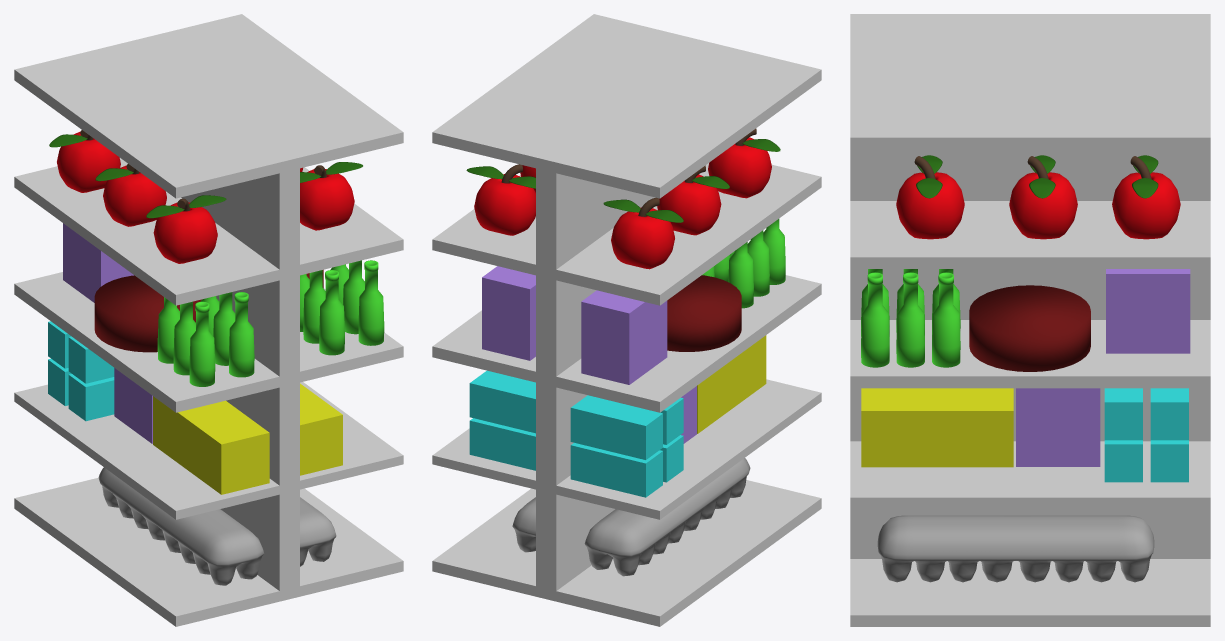
File: DoubleShelf.fbx
3 renders of one model, left to right at view 1: azimuth 30°, elevation 25°; view 2: azimuth 150°, elevation 25°; view 3: azimuth 270°, elevation 25°, orthographic. The views are drawn at different scales.
Visible parts, largest first — view 1: ShelfDouble; view 2: ShelfDouble; view 3: ShelfDouble.
Boxes of the visible parts, x1=… form: ShelfDouble: x1=14, y1=14, x2=403, y2=626; ShelfDouble: x1=432, y1=14, x2=821, y2=626; ShelfDouble: x1=850, y1=14, x2=1210, y2=626.
Bounding box in the file's own units: 944 × 1741 × 1161.
